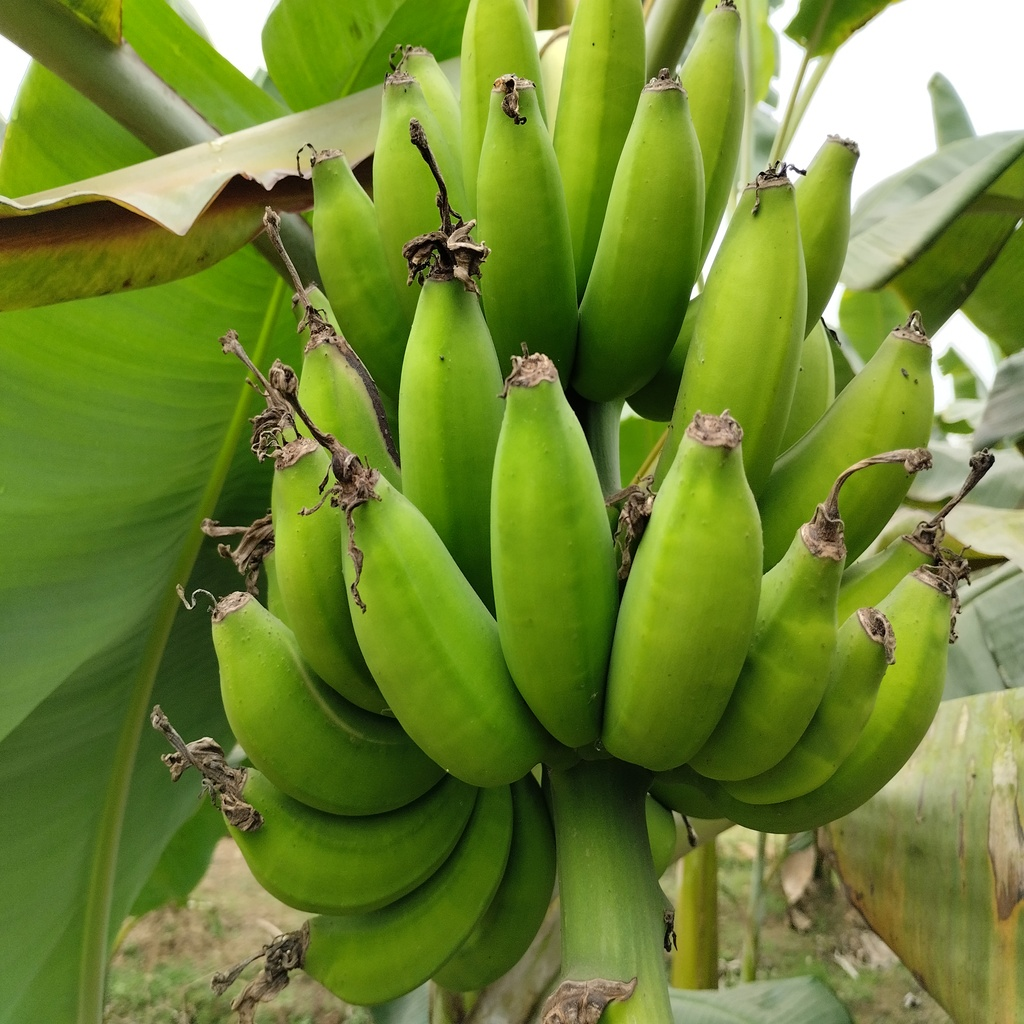healthy: (477, 382, 645, 765), (325, 476, 529, 788), (614, 427, 774, 789), (204, 767, 499, 902), (581, 75, 702, 397), (459, 82, 594, 358)
